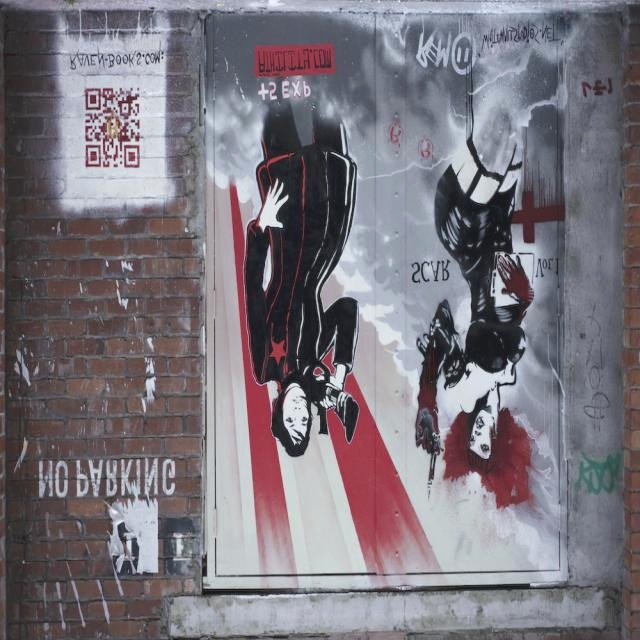qr-code: (85, 89, 139, 168)
